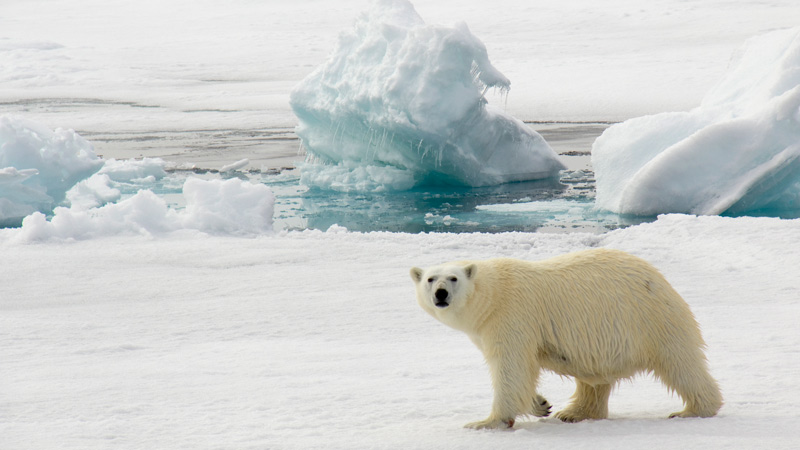Polar Bear: (369, 223, 738, 435)
